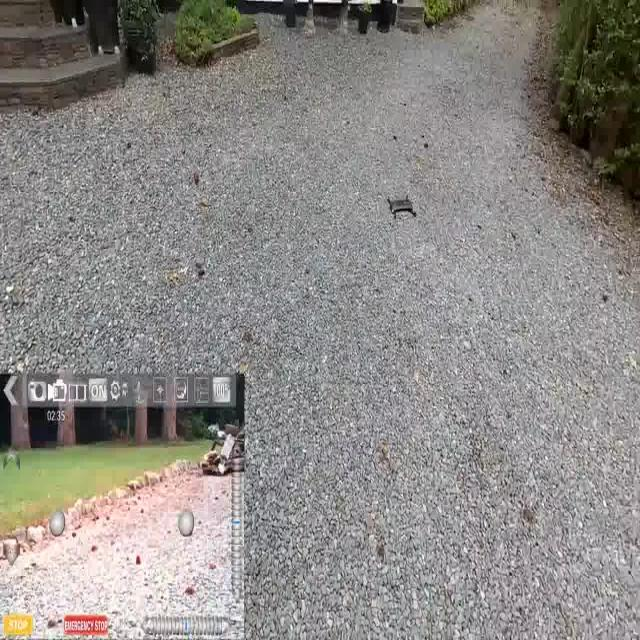drone: (388, 195, 418, 226)
